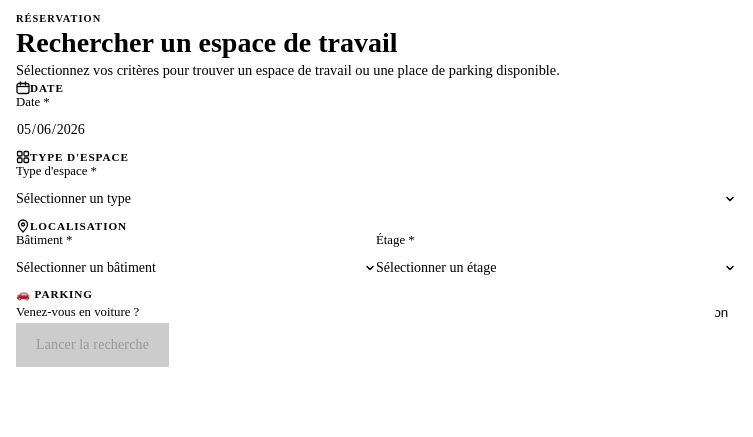
Test case: WsbSearchPage — parking fieldset › affiche les radios parking après toggle
Click the switch at {"x": 716, "y": 312}, box [696,301,736,323]
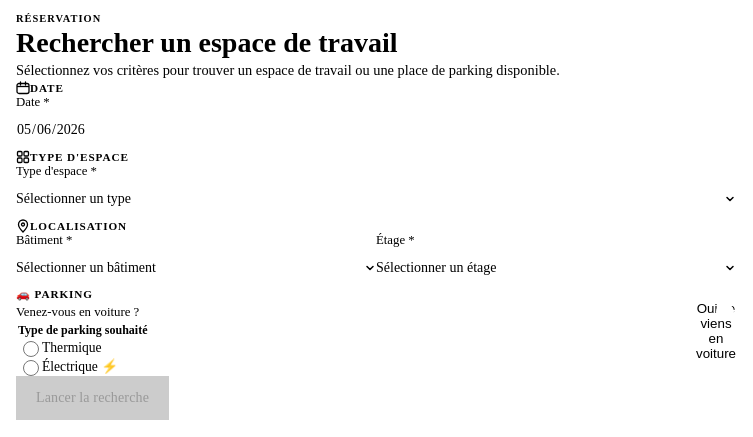
expect the text "Type de parking souhaité" is shown: met, box [18,323,148,338]
expect the radio button labelled "Thermique" is shown: met, box [23,341,39,357]
expect the radio button labelled "Électrique ⚡" is shown: met, box [23,360,39,376]
